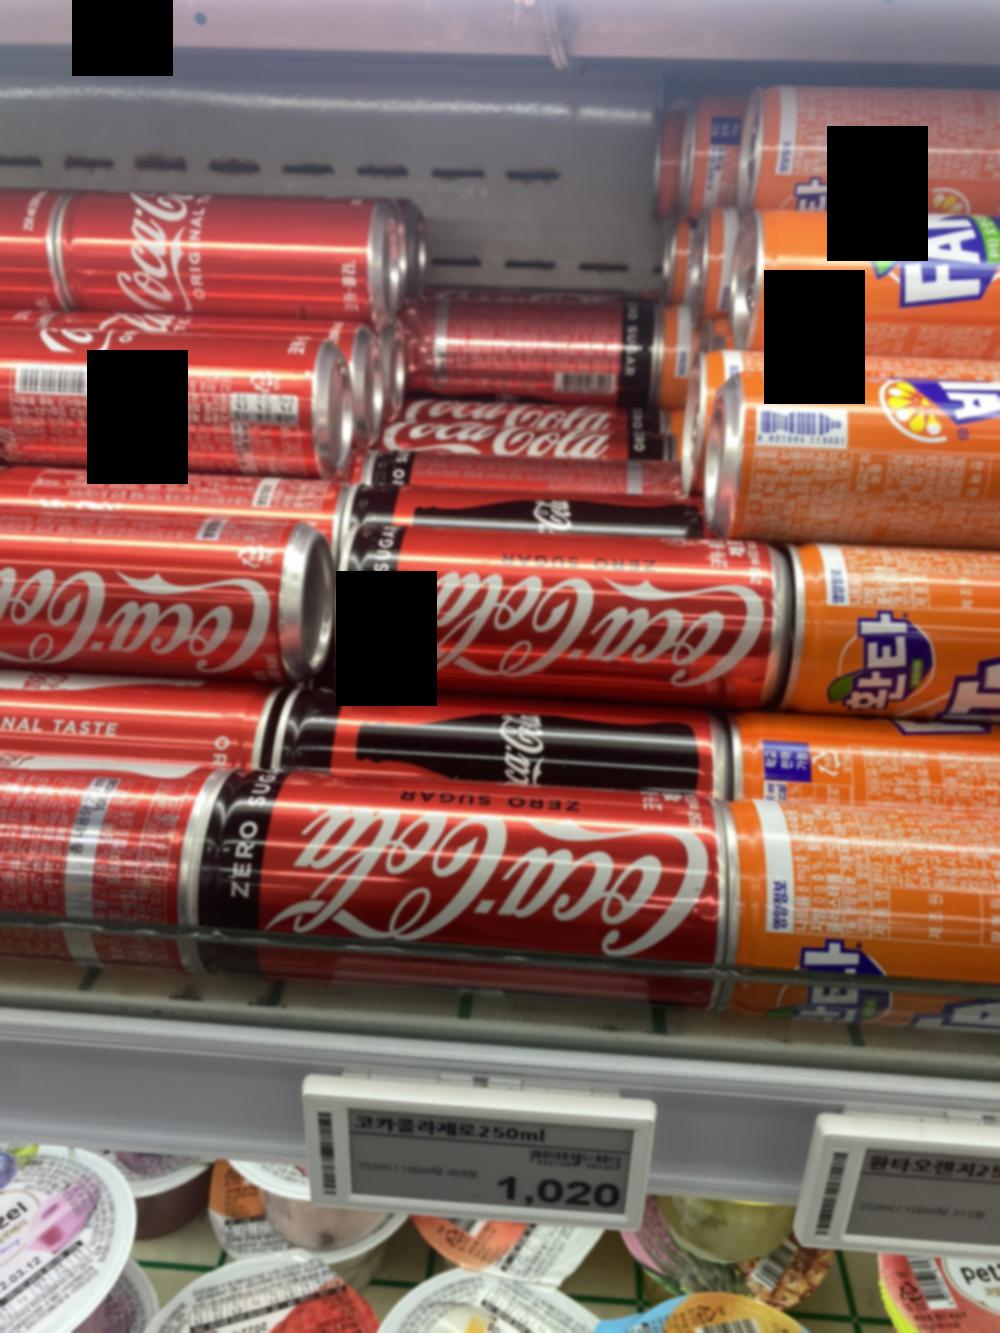cocacola_zero: (188, 784, 723, 976), (345, 527, 792, 704)
